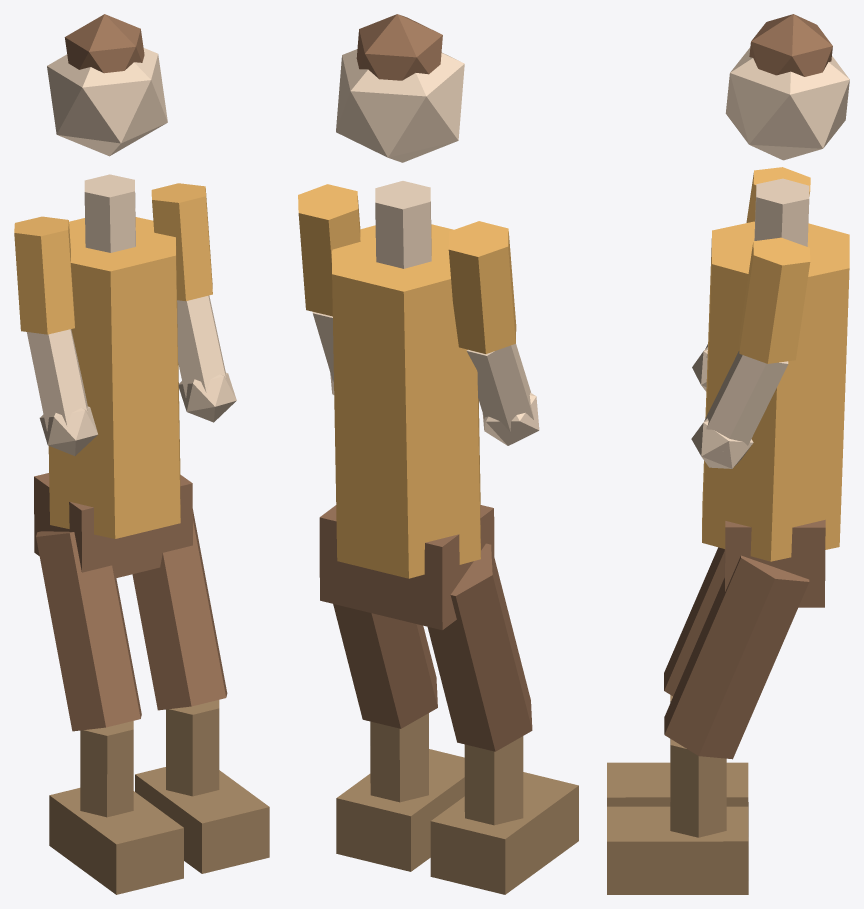
Rendered from pose_hit_light_20.glb.
The picture shows the model from 3 angles, left to right: view 1: azimuth 30°, elevation 25°; view 2: azimuth 150°, elevation 25°; view 3: azimuth 270°, elevation 25°; orthographic projection. The views are drawn at different scales.
Visible parts, largest first — view 1: pose; view 2: pose; view 3: pose.
Part boxes in pixels (x1,y1,x2,y2): pose: [14, 14, 269, 894]; pose: [298, 14, 578, 894]; pose: [607, 14, 849, 894].
Bounding box in the file's own units: 0.396 × 1.58 × 0.4123.
